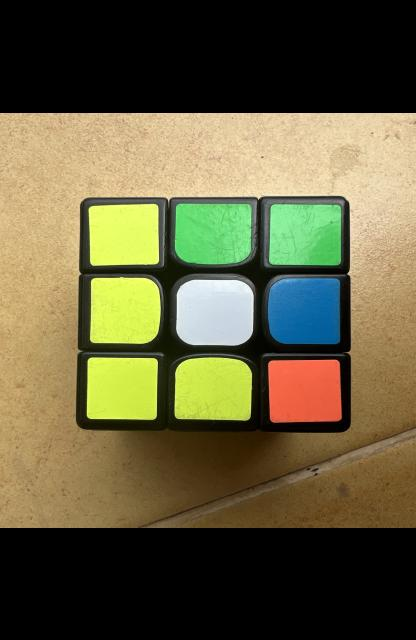Blue: (268, 277, 340, 344)
Green: (174, 203, 252, 264), (269, 203, 342, 265)
Orange: (268, 359, 342, 422)
White: (176, 279, 254, 345)
Yellow: (174, 356, 252, 420), (90, 277, 160, 343), (87, 357, 158, 419), (88, 203, 159, 265)
